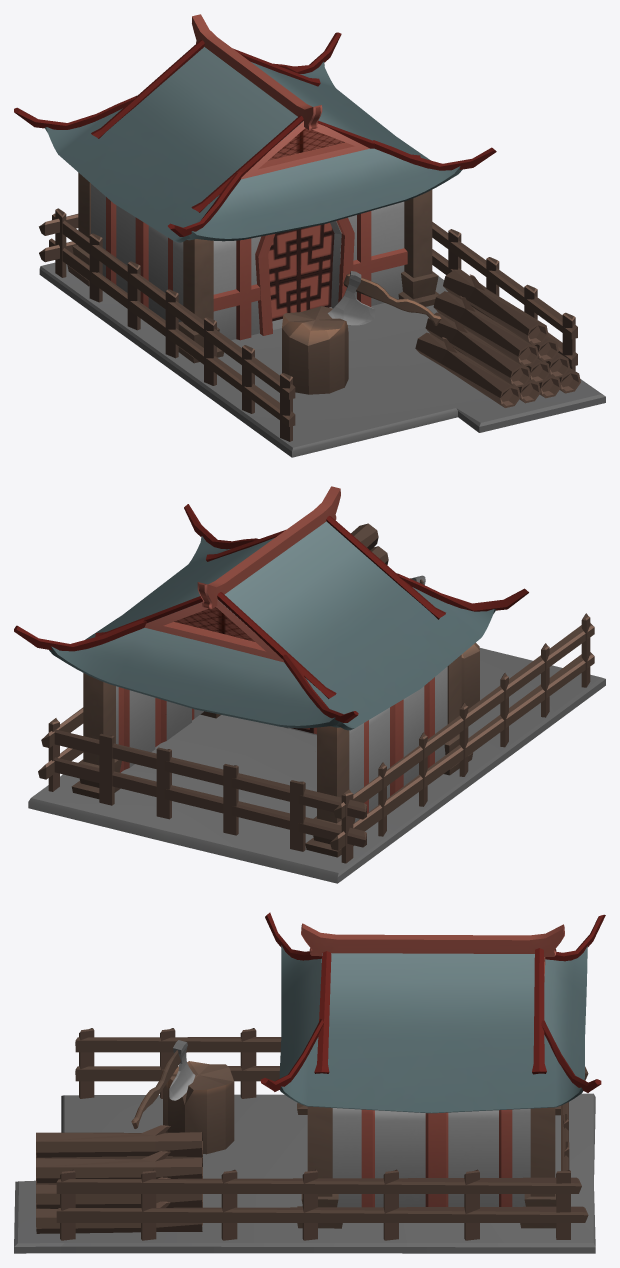
The model's file is Sawmill_2lvl.fbx.
The picture shows the model from 3 angles, top to bottom: view 1: azimuth 30°, elevation 25°; view 2: azimuth 150°, elevation 25°; view 3: azimuth 270°, elevation 25°; orthographic projection. The views are drawn at different scales.
Parts seen in each view (by area): view 1: Sawmill_2lvl; view 2: Sawmill_2lvl; view 3: Sawmill_2lvl.
Part boxes in pixels (left/top/right/bottom): Sawmill_2lvl: left=14, top=14, right=605, bottom=457; Sawmill_2lvl: left=14, top=486, right=605, bottom=883; Sawmill_2lvl: left=14, top=912, right=605, bottom=1253.
Size of the model in its own units: 4.47 by 3.09 by 6.58.
1 material, 1 textured.
